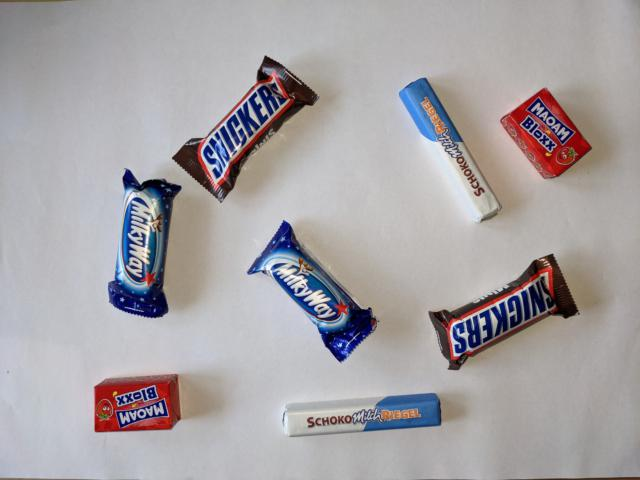MAOAM: (498, 84, 593, 181), (90, 371, 183, 436)
MilkyWay: (243, 218, 381, 364), (105, 165, 185, 321)
Schokoriegel: (395, 74, 505, 225), (276, 390, 444, 441)
Snickers: (169, 52, 324, 205), (427, 252, 582, 374)
